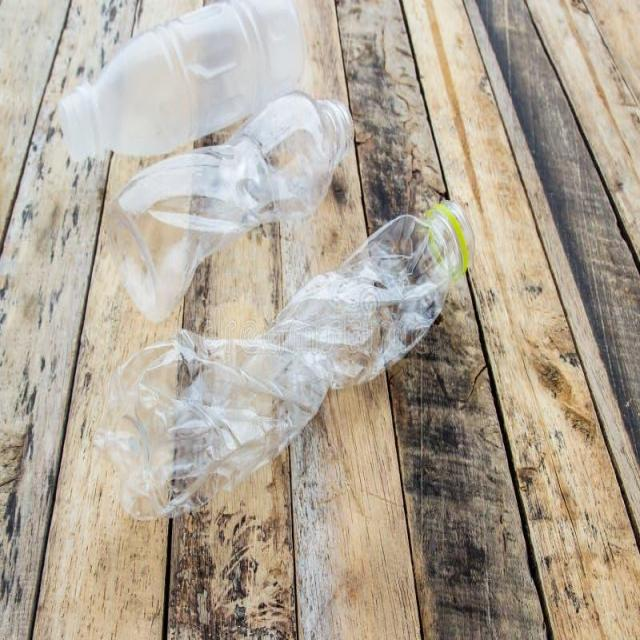plastic bottle: (90, 198, 474, 522), (110, 94, 356, 326), (57, 0, 302, 166)
